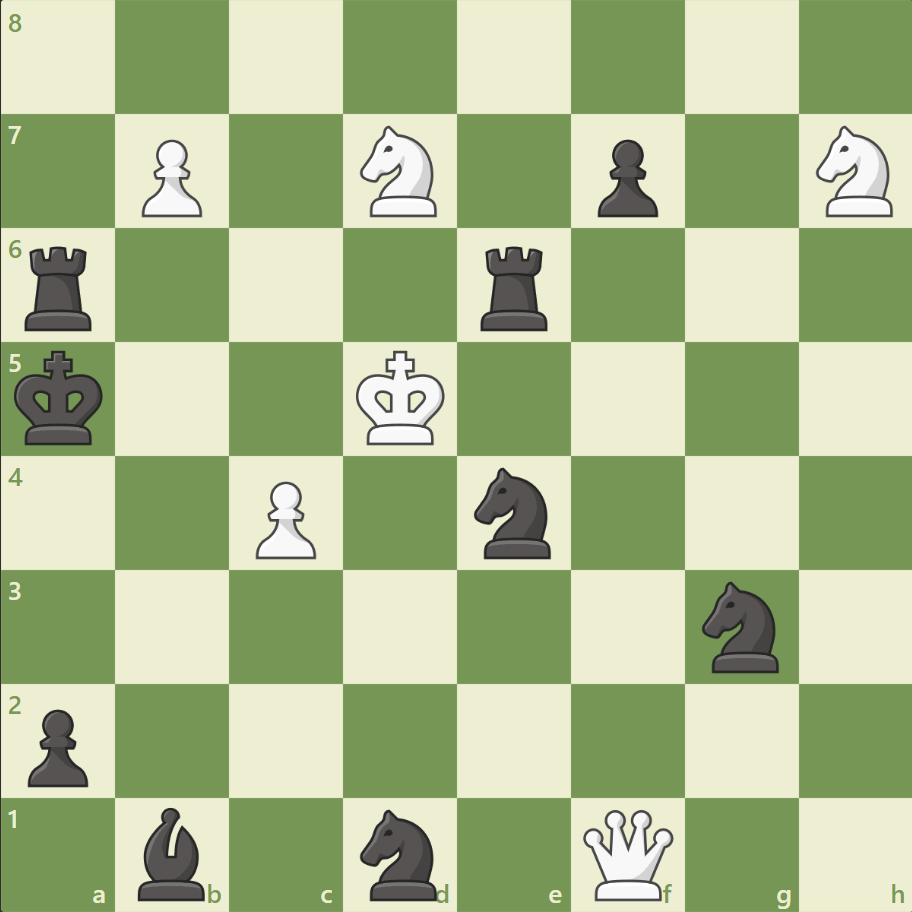K: (351, 344, 451, 452)
N: (351, 121, 449, 223), (806, 121, 903, 223)
P: (133, 132, 208, 223), (247, 473, 322, 564)
Q: (578, 804, 677, 903)
b: (131, 801, 215, 904)
k: (11, 344, 111, 452)
n: (351, 802, 449, 904), (465, 461, 562, 564), (692, 575, 789, 677)
p: (20, 700, 95, 791), (588, 132, 662, 223)
r: (19, 239, 102, 336), (473, 239, 556, 336)
